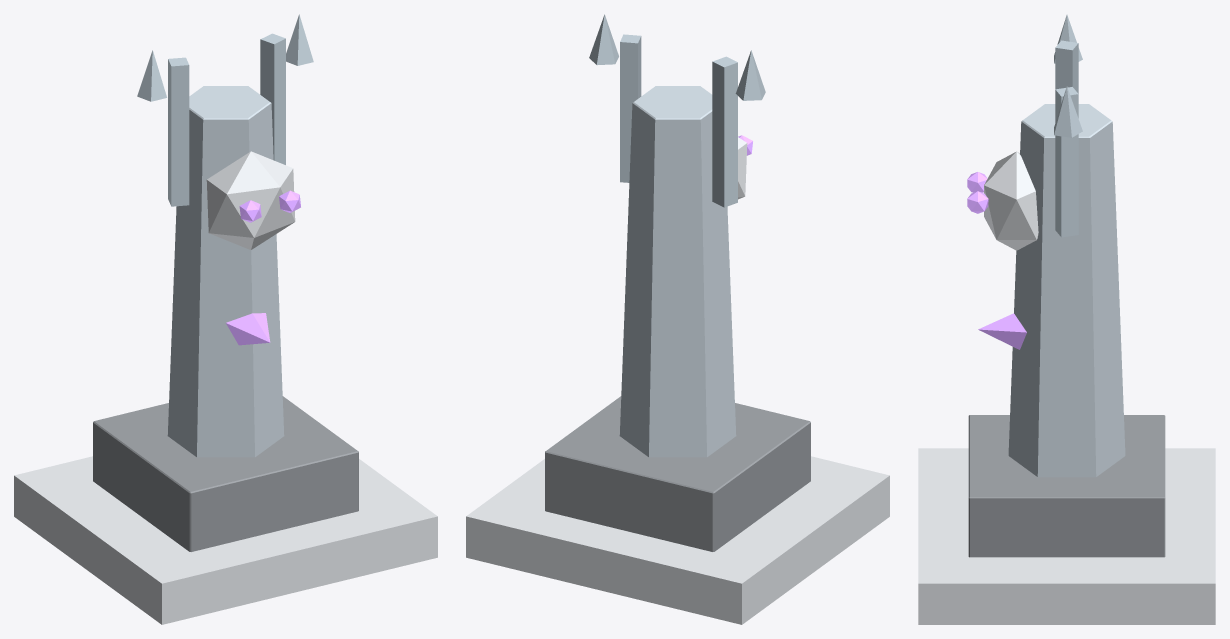
Rendered from tundra_totem_landmark.glb.
3 renders of one model, left to right at view 1: azimuth 30°, elevation 25°; view 2: azimuth 150°, elevation 25°; view 3: azimuth 270°, elevation 25°, orthographic.
Parts seen in each view (by area): view 1: snow_base; view 2: snow_base; view 3: snow_base.
Part boxes in pixels (bbox=[...]): snow_base: bbox=[14, 14, 437, 624]; snow_base: bbox=[466, 14, 889, 624]; snow_base: bbox=[918, 14, 1215, 624].
Bounding box in the file's own units: 1.4 × 2.45 × 1.3.
